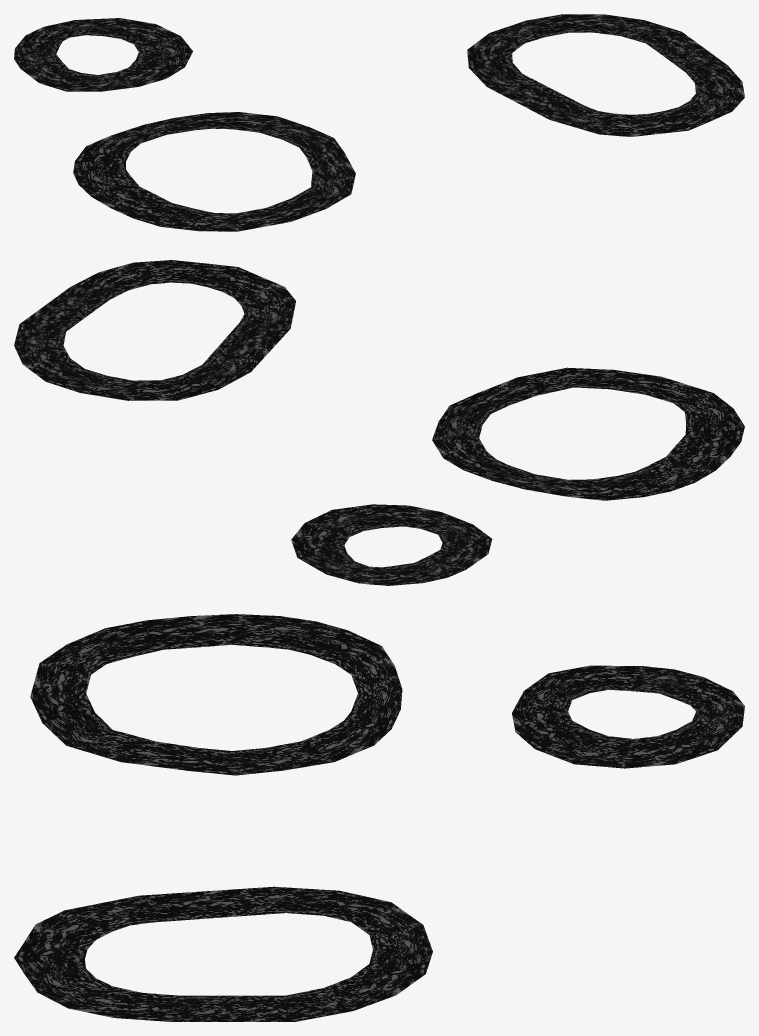
File: sea.dae
3 views of the same model, one above another, from view 1: azimuth 30°, elevation 25°; view 2: azimuth 150°, elevation 25°; view 3: azimuth 270°, elevation 25° (orthographic). The views are drawn at different scales.
Parts seen in each view (by area): view 1: m1; view 2: m1; view 3: m1.
Boxes of the visible parts, left/top/right/bottom form: m1: left=14, top=14, right=744, bottom=231; m1: left=14, top=260, right=744, bottom=585; m1: left=14, top=614, right=744, bottom=1021.
Size of what is drawn, in the model's own units: 22251 by 10 by 16856.
1 material, 1 textured.
